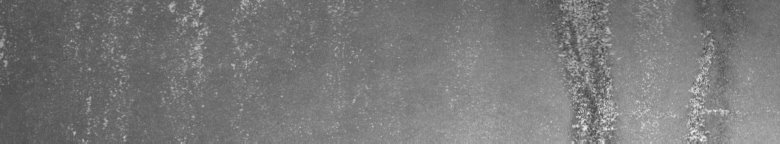hc: (559, 4, 614, 136)
